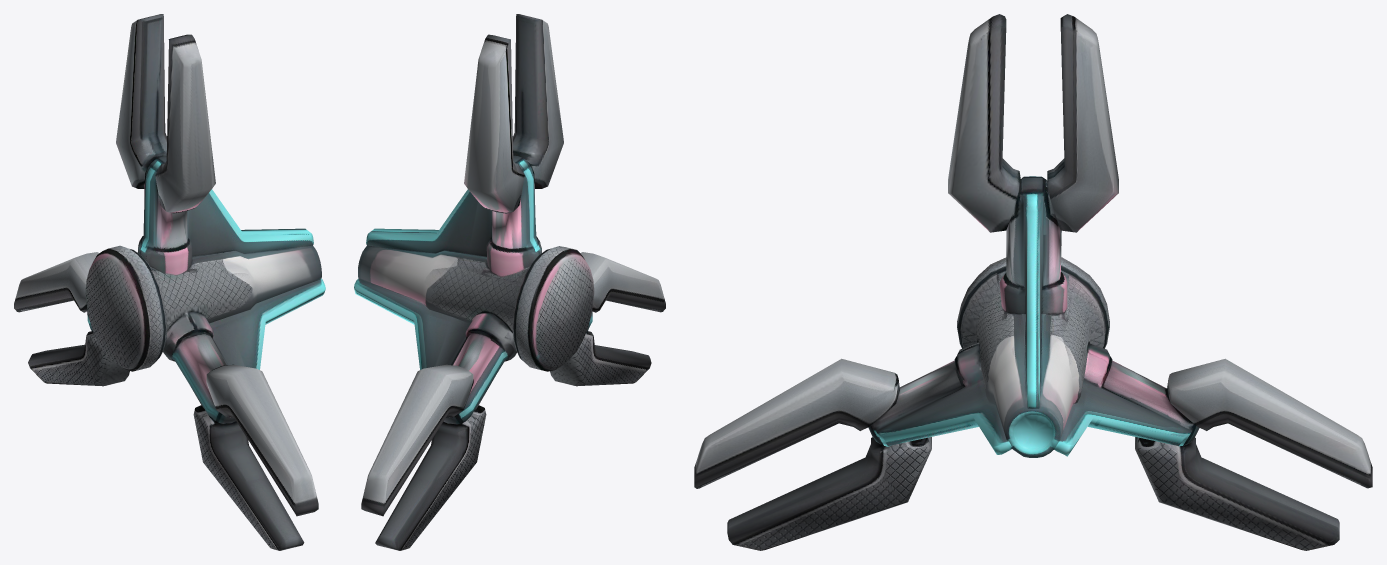
The model's file is phase_splitter_trident.glb.
3 views of the same model, side by side, from view 1: azimuth 30°, elevation 25°; view 2: azimuth 150°, elevation 25°; view 3: azimuth 270°, elevation 25° (orthographic). The views are drawn at different scales.
Parts seen in each view (by area): view 1: phase splitter trident; view 2: phase splitter trident; view 3: phase splitter trident.
Boxes of the visible parts, left/top/right/bottom form: phase splitter trident: left=14, top=14, right=325, bottom=550; phase splitter trident: left=354, top=14, right=665, bottom=550; phase splitter trident: left=694, top=14, right=1372, bottom=550.
Size of the model in its own units: 0.0818 by 0.1695 by 0.1982.
Materials: 1 (1 with a texture image).
